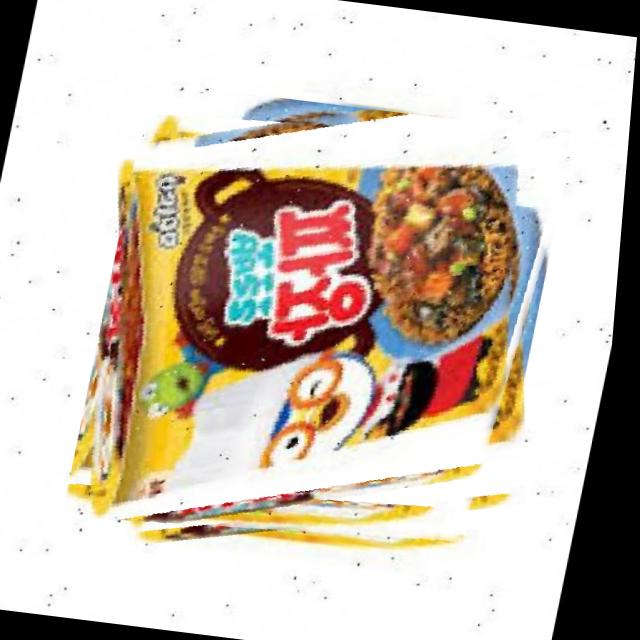Miscellaneous: (67, 81, 587, 572)
